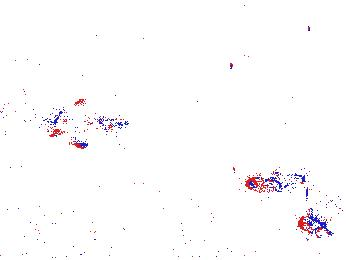red belly glassfish: (244, 171, 311, 194), (298, 215, 331, 237)
redtail glassfish: (49, 105, 126, 139)
